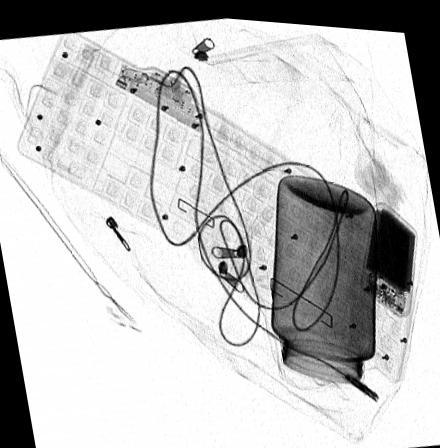Powerbank: (359, 195, 417, 310)
